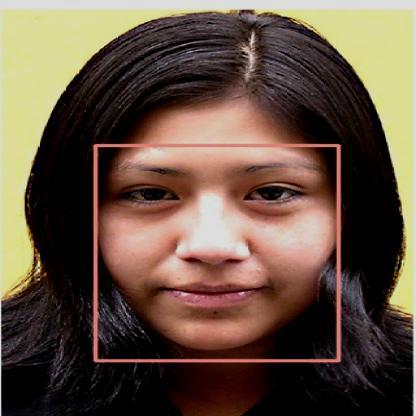without_mask: (95, 145, 338, 360)
